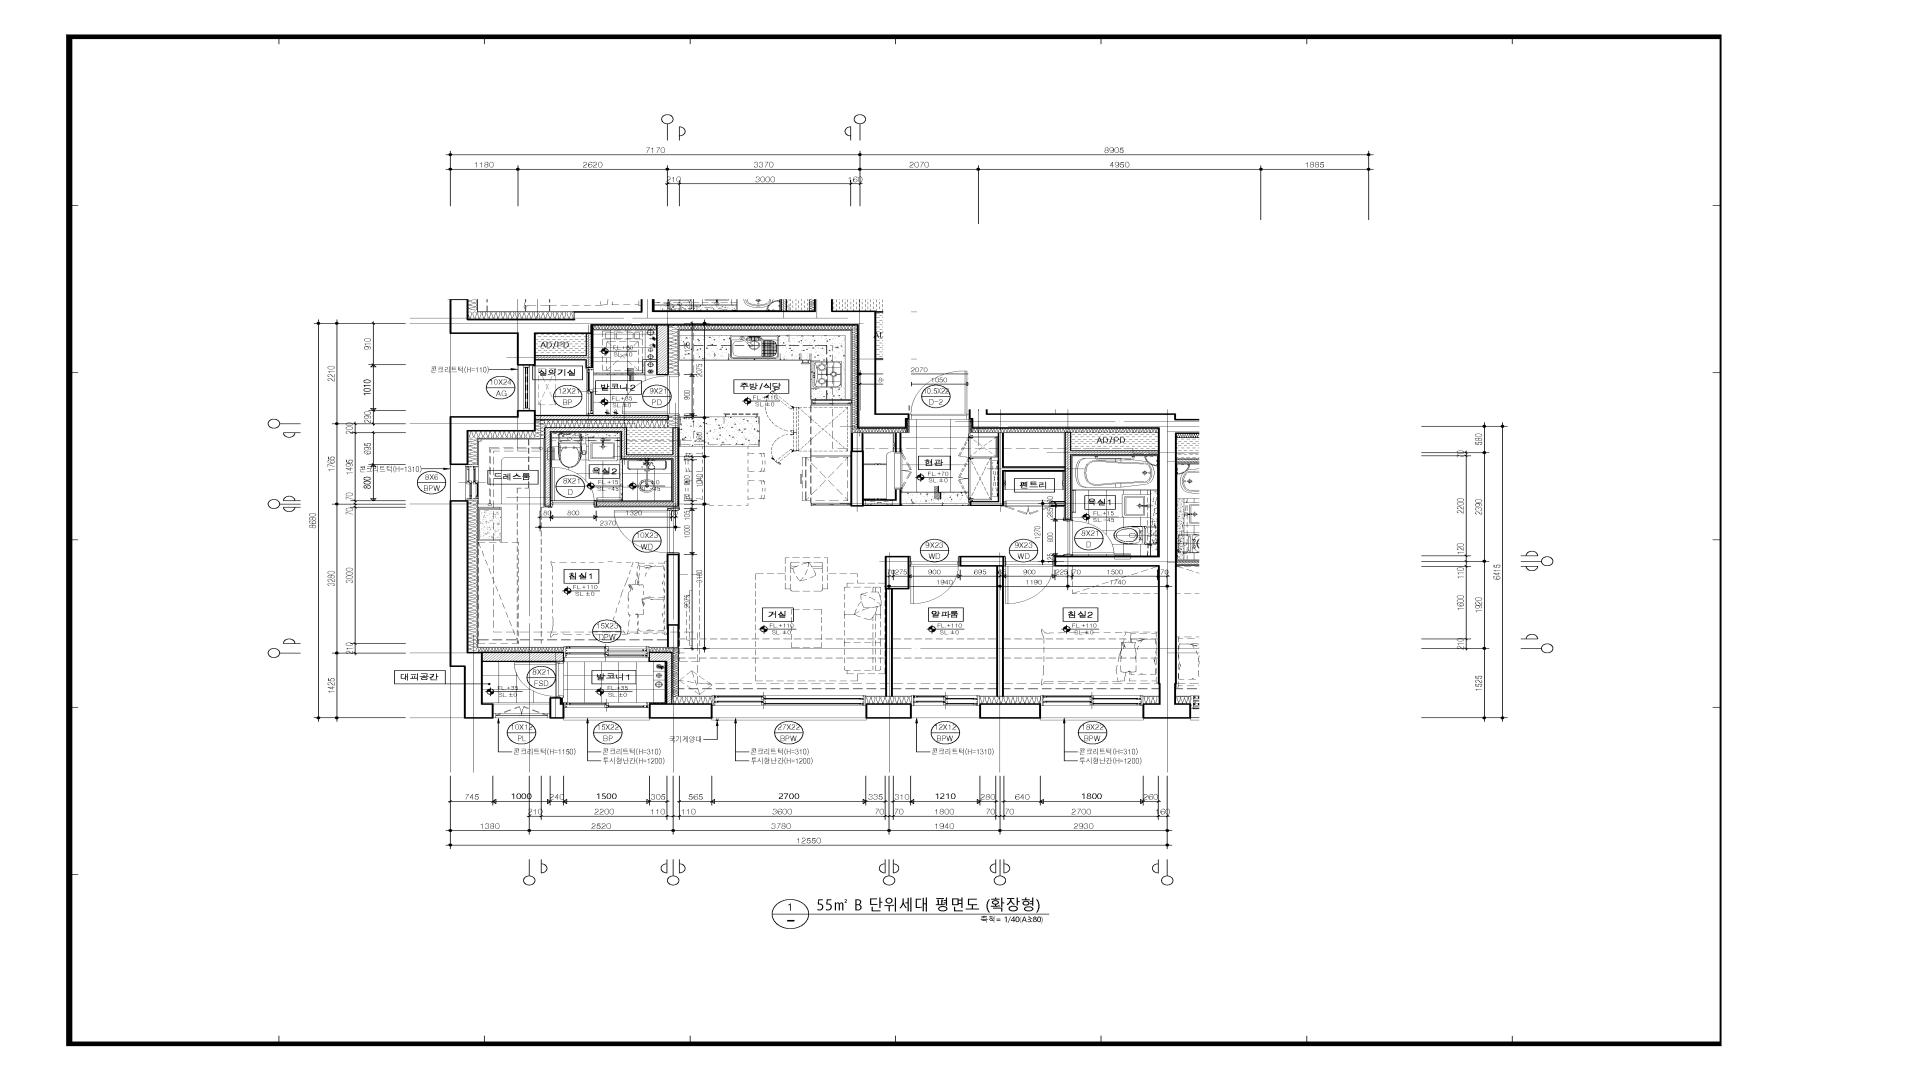door: (614, 507, 680, 554), (909, 371, 969, 419), (909, 556, 960, 604), (1004, 556, 1054, 604), (622, 375, 679, 415), (551, 467, 596, 507), (1065, 520, 1114, 556), (514, 662, 564, 697), (895, 452, 912, 489), (1004, 501, 1051, 514)
wall: (969, 409, 1176, 719), (450, 299, 909, 429), (969, 432, 1158, 520), (544, 427, 680, 507), (449, 500, 494, 719), (959, 556, 1004, 697), (450, 410, 536, 465), (885, 556, 909, 697), (536, 334, 593, 368), (667, 554, 680, 647), (649, 652, 672, 704), (851, 433, 866, 506), (979, 703, 1040, 719), (650, 704, 712, 719), (482, 652, 564, 662), (866, 703, 912, 719), (536, 415, 669, 420), (656, 326, 669, 375), (549, 697, 564, 719), (893, 489, 901, 506), (895, 433, 901, 452)
window: (712, 695, 866, 720), (1040, 695, 1143, 720), (564, 702, 650, 720), (912, 695, 979, 718), (564, 646, 649, 662), (450, 465, 479, 500), (517, 365, 536, 410), (493, 706, 549, 719), (586, 368, 593, 415), (866, 499, 893, 506)
